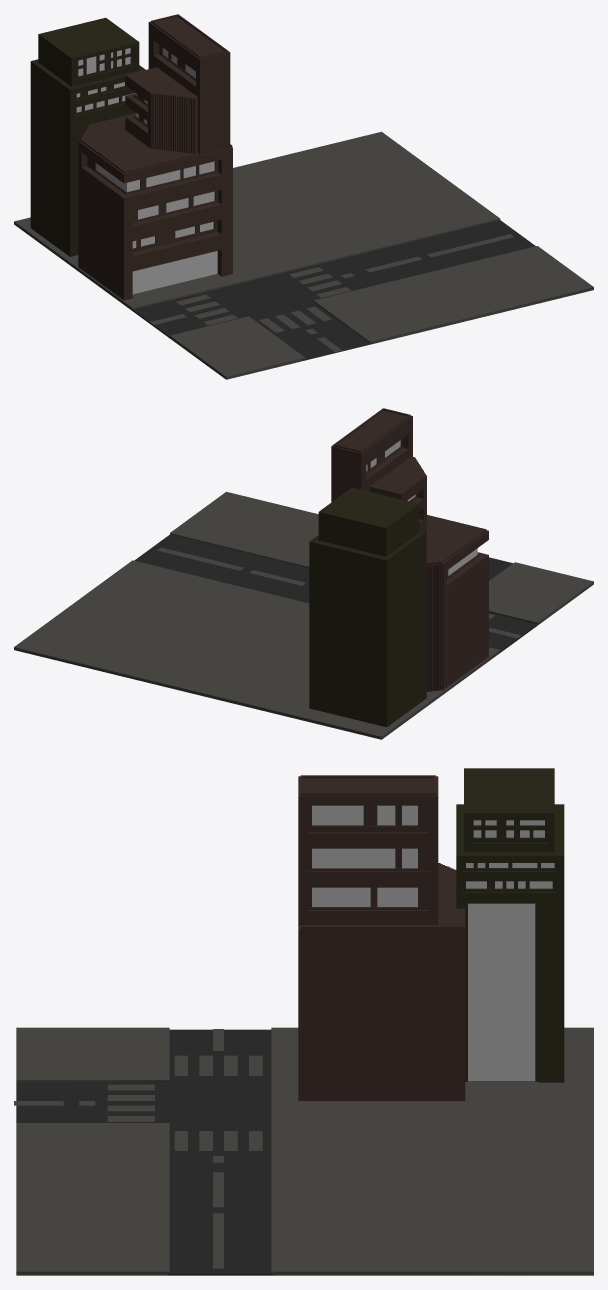
File: Street3-6.fbx
3 renders of one model, top to bottom at view 1: azimuth 30°, elevation 25°; view 2: azimuth 150°, elevation 25°; view 3: azimuth 270°, elevation 25°, orthographic. The views are drawn at different scales.
Visible parts, largest first — view 1: Street3_6_001; view 2: Street3_6_001; view 3: Street3_6_001.
Part boxes in pixels (left/top/right/bottom): Street3_6_001: left=14, top=14, right=593, bottom=379; Street3_6_001: left=14, top=408, right=593, bottom=739; Street3_6_001: left=14, top=768, right=593, bottom=1275.
Bounding box in the file's own units: 25.6 × 15.09 × 25.7.
